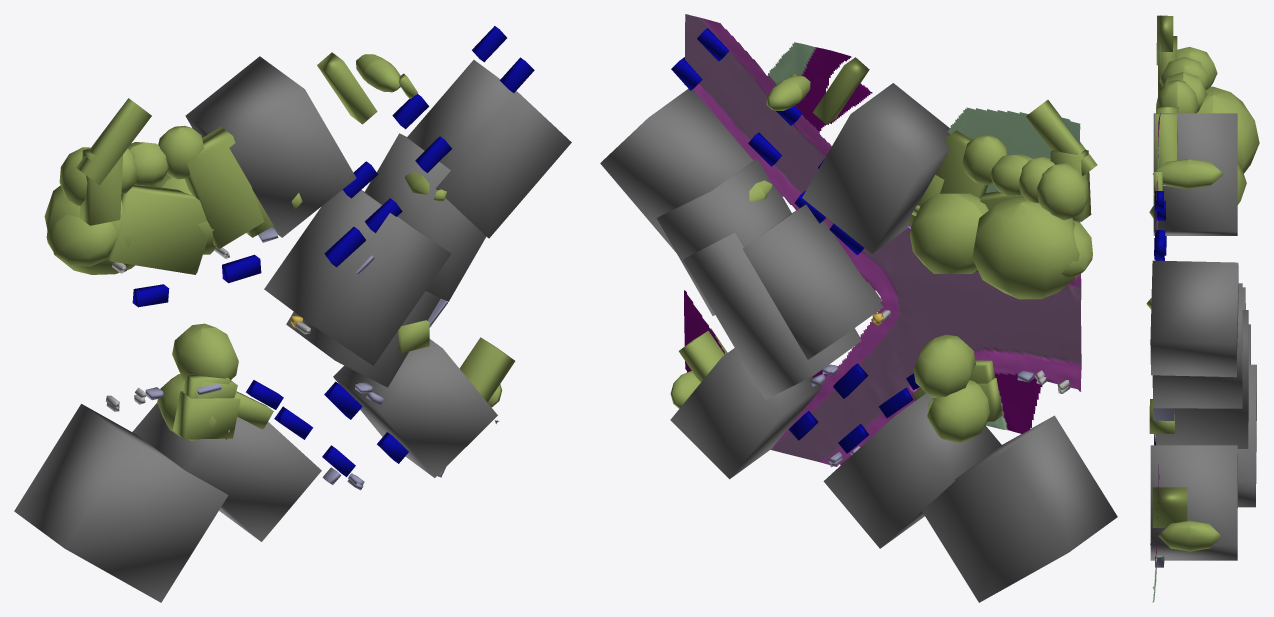
3 renders of one model, left to right at view 1: azimuth 30°, elevation 25°; view 2: azimuth 150°, elevation 25°; view 3: azimuth 270°, elevation 25°, orthographic. The views are drawn at different scales.
Bounding box in the file's own units: 76.57 × 72.79 × 15.99.
